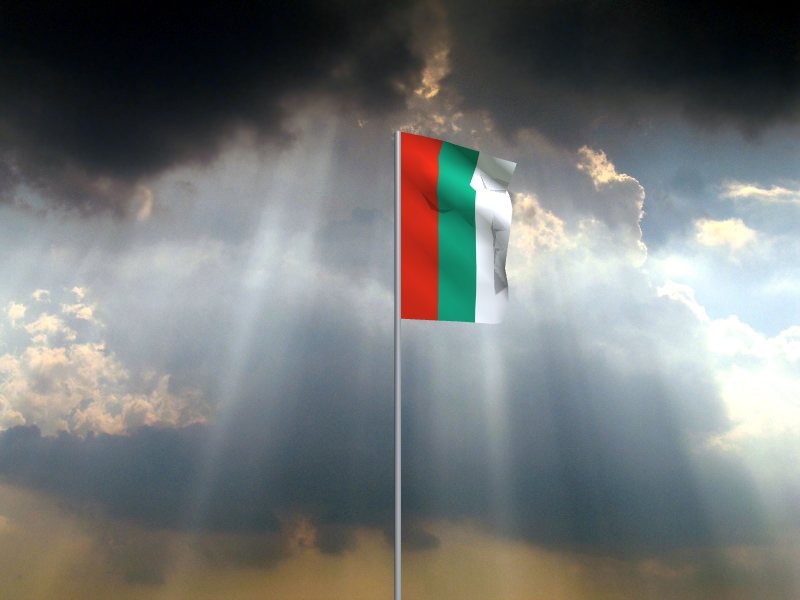bg: (401, 133, 519, 327)
